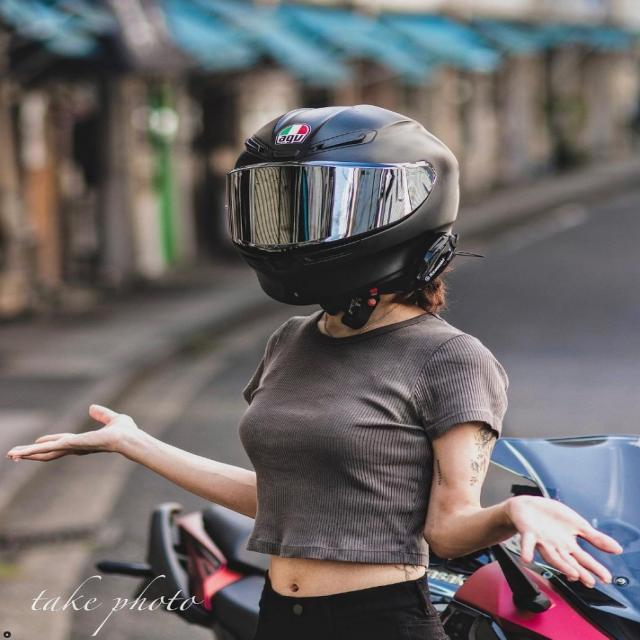helmet: (216, 99, 465, 334)
